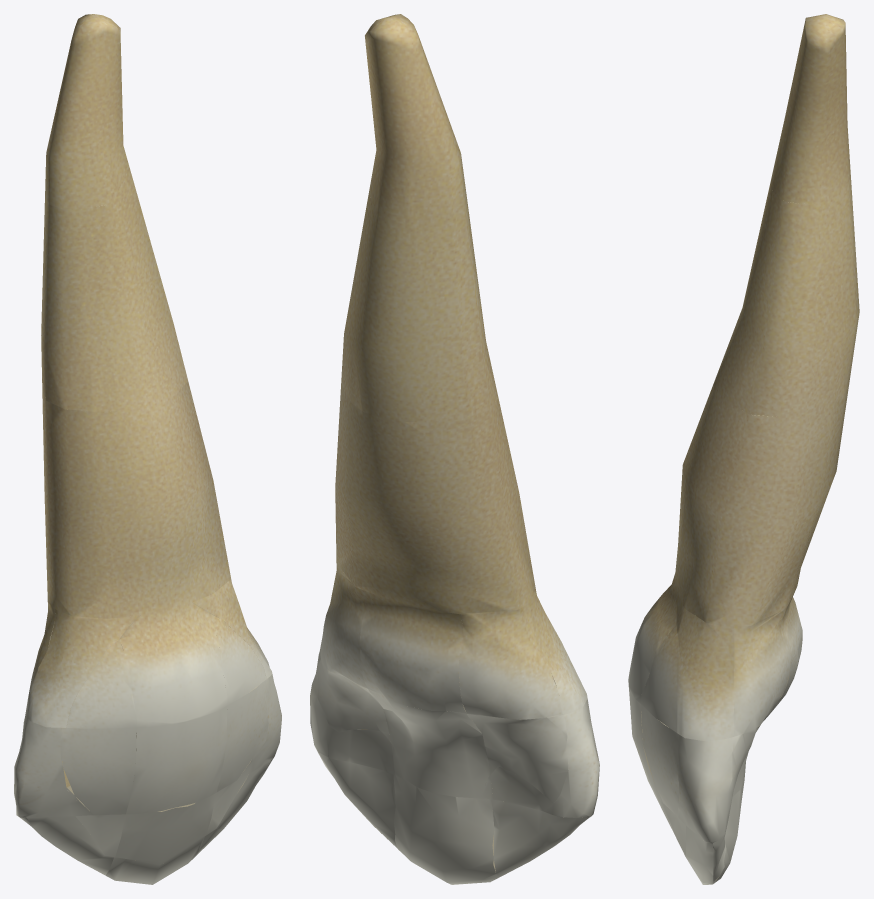
File: Right_Upper_Canine_large-transformed.glb
3 renders of one model, left to right at view 1: azimuth 30°, elevation 25°; view 2: azimuth 150°, elevation 25°; view 3: azimuth 270°, elevation 25°, orthographic. The views are drawn at different scales.
Visible parts, largest first — view 1: Human_Teeth_Upper_Canine_Geo.004; view 2: Human_Teeth_Upper_Canine_Geo.004; view 3: Human_Teeth_Upper_Canine_Geo.004.
Part boxes in pixels (x1,y1,x2,y2): Human_Teeth_Upper_Canine_Geo.004: (14,14,281,884); Human_Teeth_Upper_Canine_Geo.004: (310,14,599,884); Human_Teeth_Upper_Canine_Geo.004: (628,14,859,884).
Size of the model in its own units: 0.9588 by 2.91 by 0.7056.
1 material, 1 textured.
